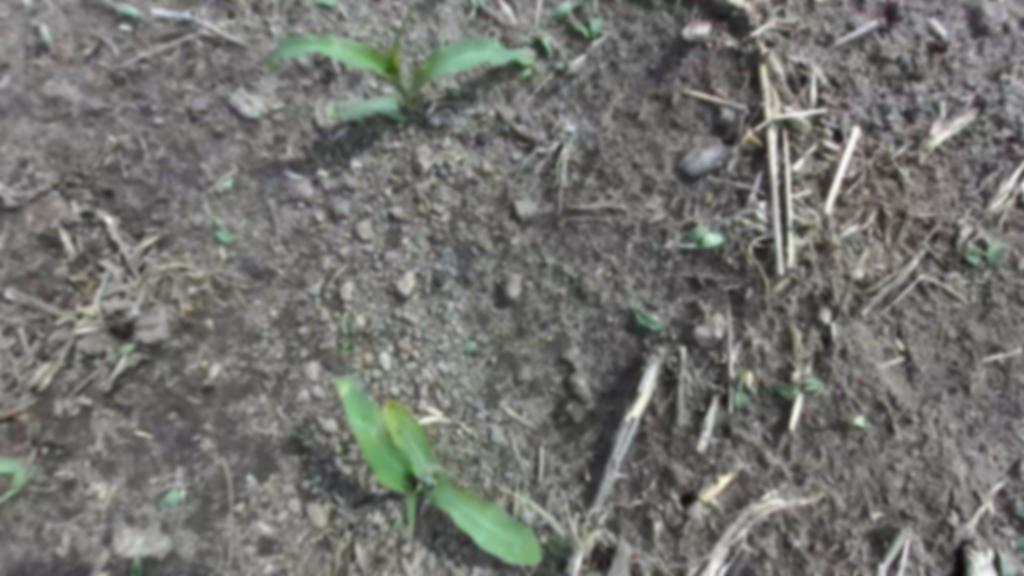BroWeed: (0, 443, 43, 508), (0, 448, 54, 494), (964, 223, 1014, 271), (618, 294, 668, 338), (27, 10, 68, 59), (516, 23, 561, 62), (765, 377, 820, 404), (681, 216, 718, 248), (957, 240, 990, 275), (211, 221, 247, 252), (100, 339, 140, 366), (563, 8, 595, 40), (540, 530, 571, 562), (159, 473, 192, 503), (155, 484, 186, 515), (731, 366, 750, 410), (548, 33, 570, 65), (199, 360, 228, 384), (589, 0, 604, 40), (787, 369, 818, 388), (212, 214, 241, 231), (458, 335, 480, 357), (473, 327, 495, 349), (547, 50, 567, 74), (808, 378, 828, 400), (839, 399, 859, 420), (514, 63, 538, 80), (392, 512, 411, 533), (129, 554, 144, 576), (219, 176, 236, 194), (851, 415, 872, 429), (197, 354, 214, 371), (742, 396, 756, 414), (1011, 534, 1024, 552), (540, 545, 554, 561), (213, 184, 227, 197), (455, 343, 466, 359), (342, 337, 355, 350), (333, 443, 344, 456), (290, 429, 302, 440), (338, 333, 348, 346)
Maize: (287, 354, 555, 576)
